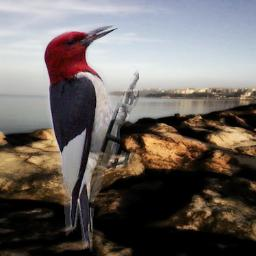Woodpecker: (43, 24, 139, 252)
